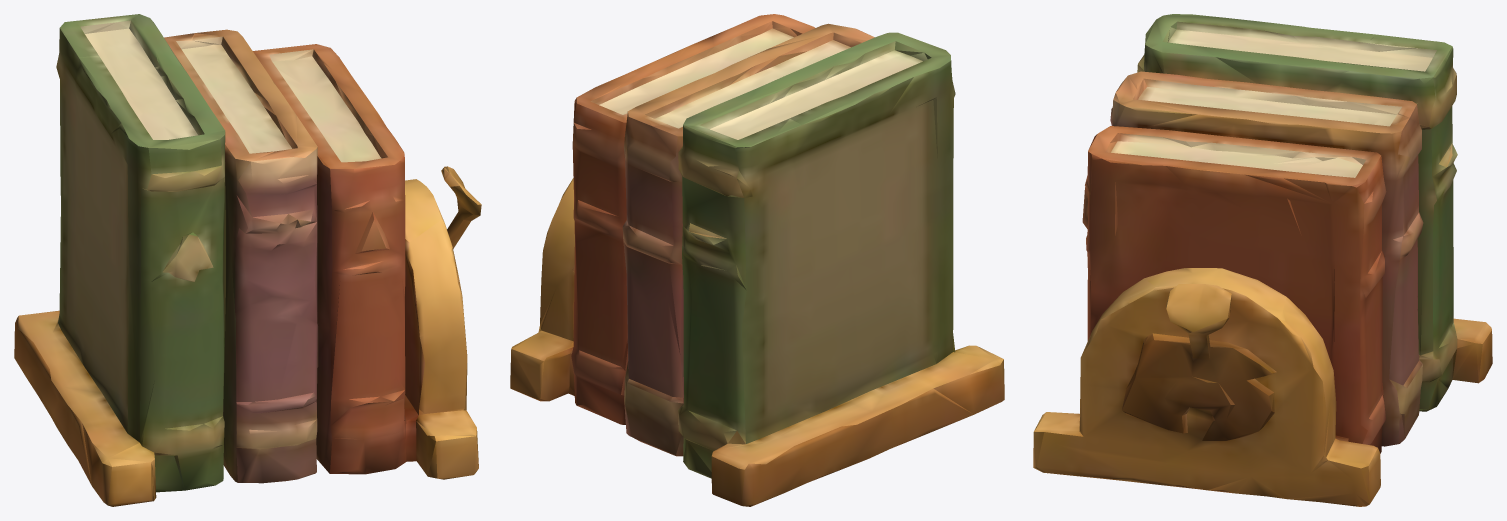
Rendered from deco10.glb.
3 renders of one model, left to right at view 1: azimuth 30°, elevation 25°; view 2: azimuth 150°, elevation 25°; view 3: azimuth 270°, elevation 25°, orthographic. The views are drawn at different scales.
Size of the model in its own units: 0.205 by 0.1712 by 0.2129.
Materials: 1 (1 with a texture image).
